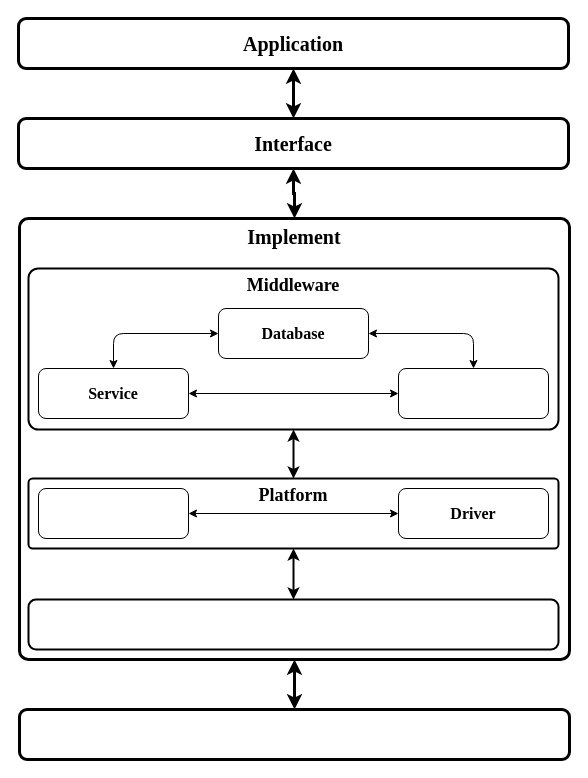
Image size: 588x778. Some labels were removed from this diagram. Each missing label, with the centre of its shape:
Hardware: point 294,734
Interrupt: point 113,513
Management: point 473,393
Support: point 293,624
